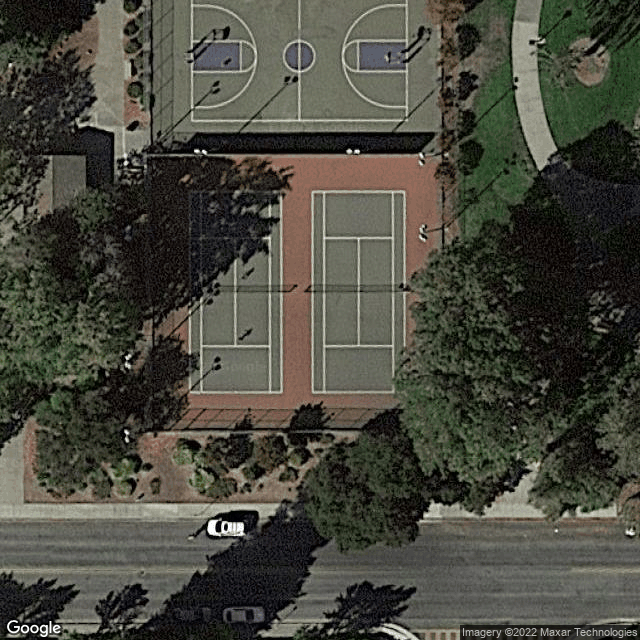Court: (185, 188, 285, 395), (309, 188, 407, 396)
